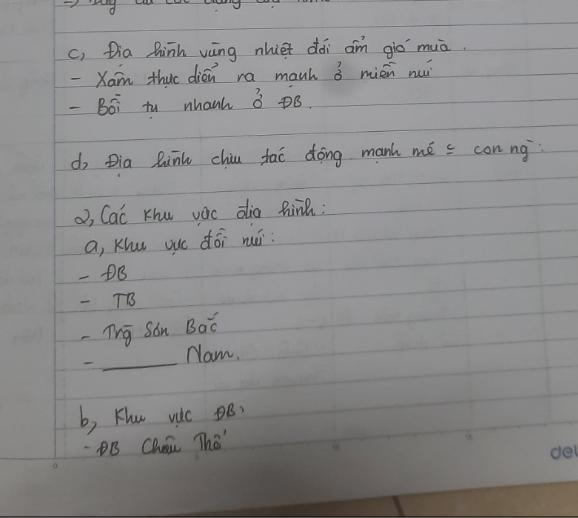text: (66, 138, 546, 180), (69, 57, 435, 91), (63, 34, 454, 63), (72, 195, 328, 231), (68, 85, 312, 121), (82, 226, 276, 261), (78, 398, 246, 437), (80, 310, 221, 350), (81, 342, 242, 375), (81, 425, 232, 460), (77, 287, 138, 311), (75, 261, 130, 285), (549, 442, 578, 463)
